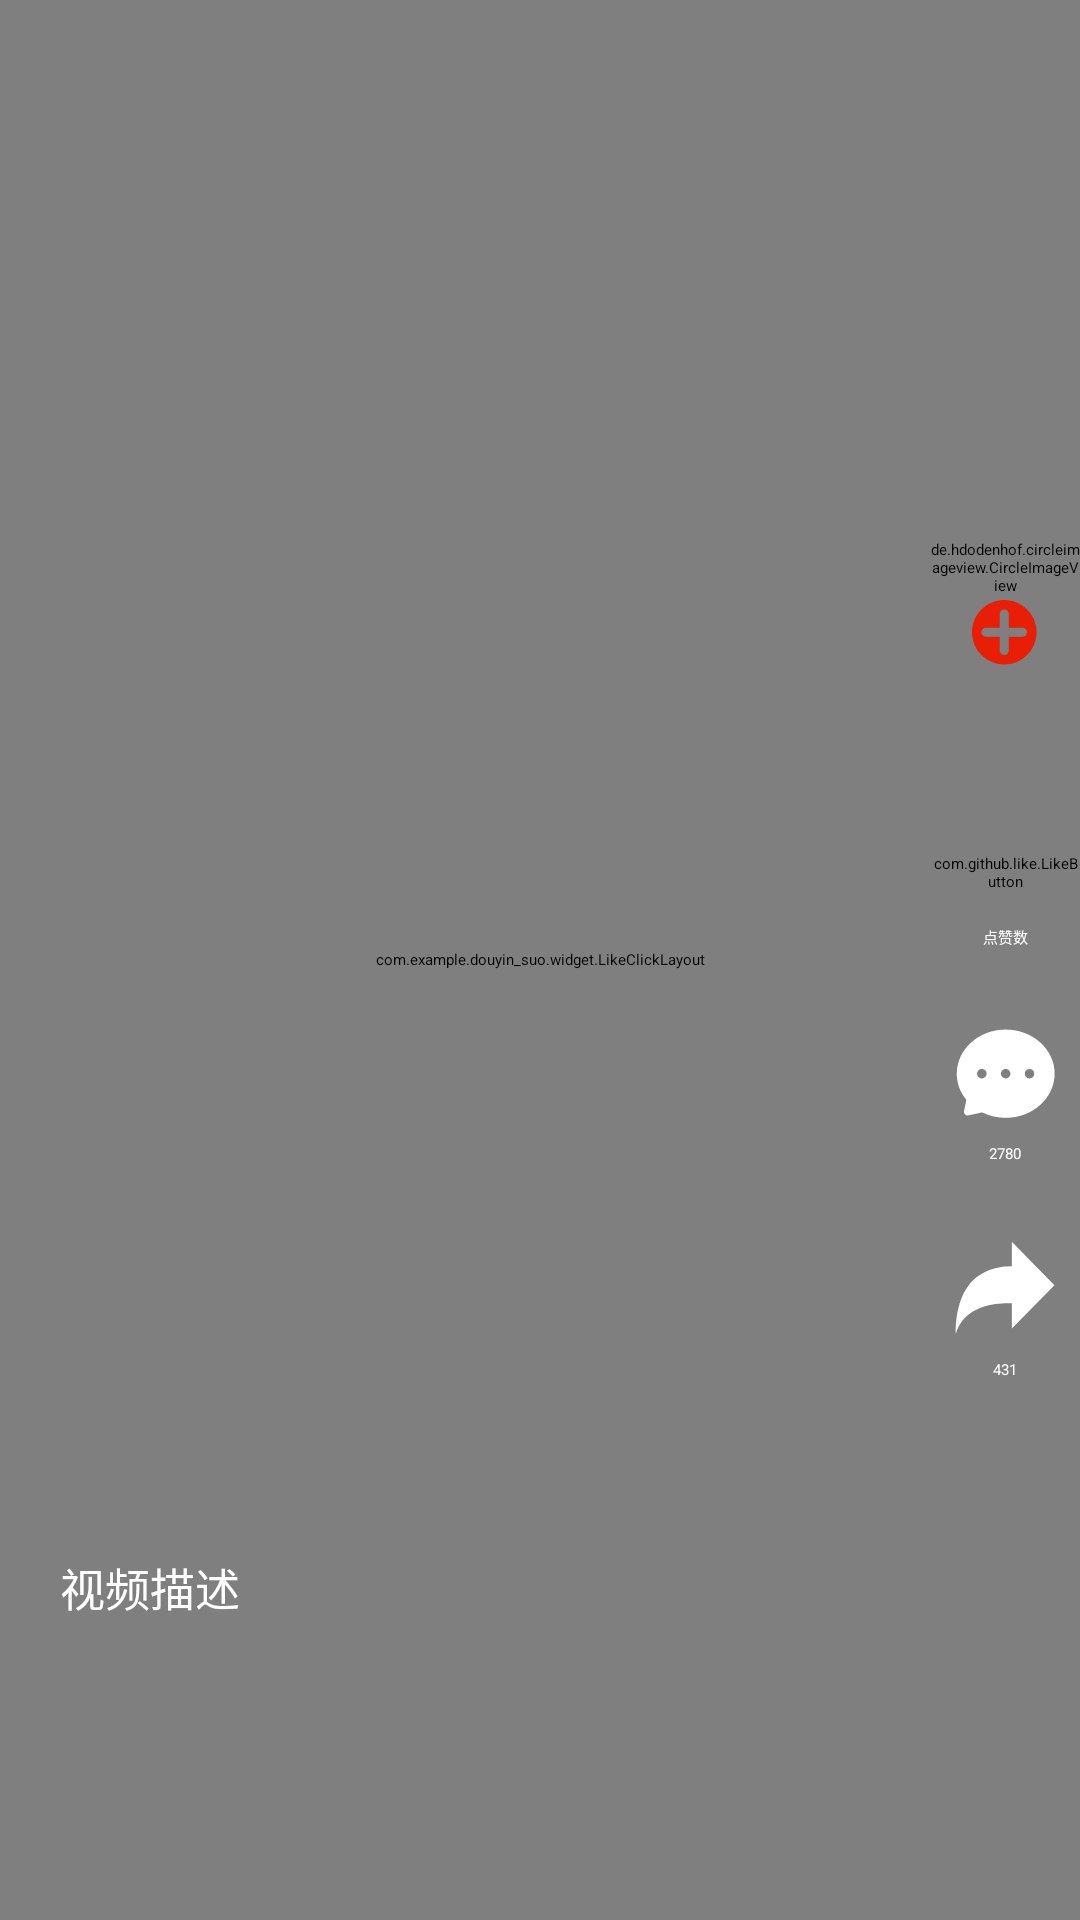

Where to tap for icons on this 1080px×1920px app screen, as point (x, y):
comment: point (1005, 1073)
follow: point (1004, 632)
share: point (1004, 1287)
